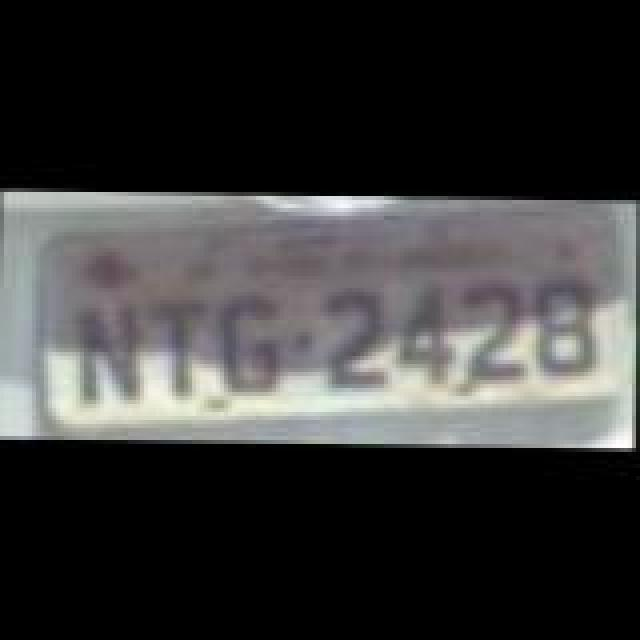2: (458, 284, 530, 388), (324, 282, 392, 390)
4: (400, 282, 460, 386)
8: (532, 274, 600, 374)
G: (218, 288, 290, 396)
N: (82, 296, 146, 408)
T: (150, 298, 214, 402)
